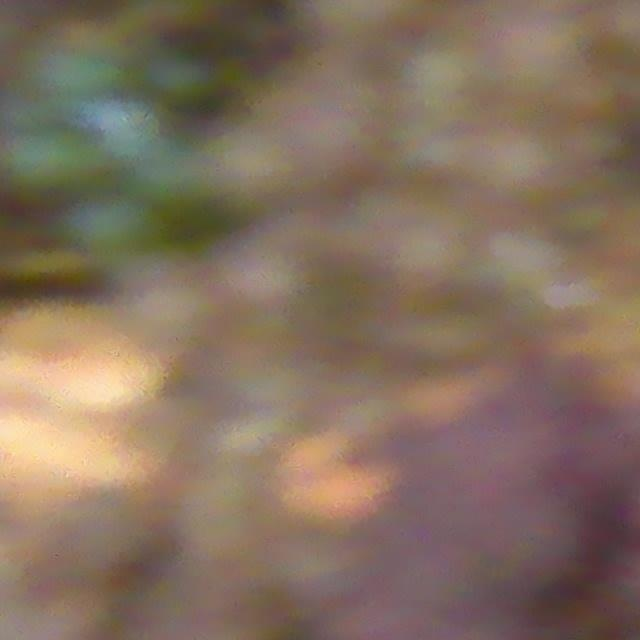SeaGrape: (6, 122, 95, 197), (70, 189, 157, 263)
